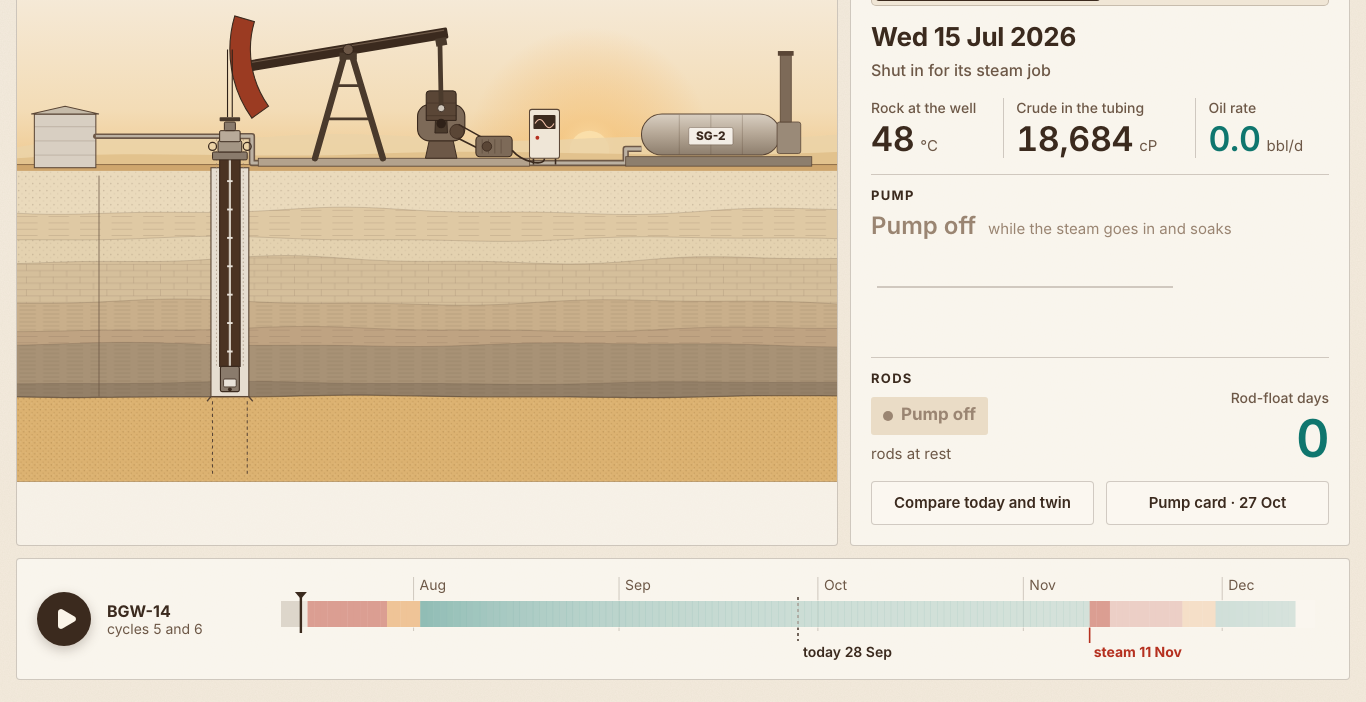
Test: 2D story › plays today's run to its stop day and counts the rod-float days on the way
The width and height of the screenshot is (1366, 702).
(page scrolled)
Click the button with test id "play": (64, 619) [37,592,91,646]
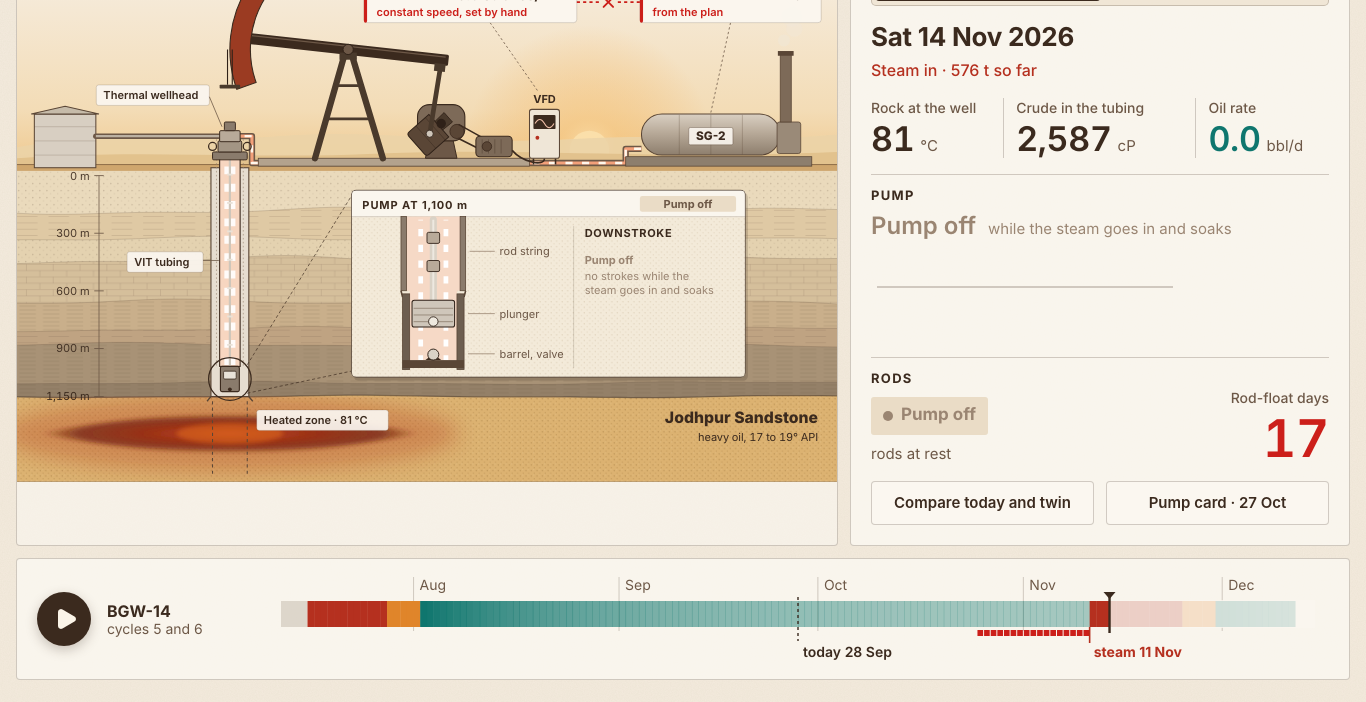
Now the text with test id "float-days" reads "17", box [1263,407,1329,470]
